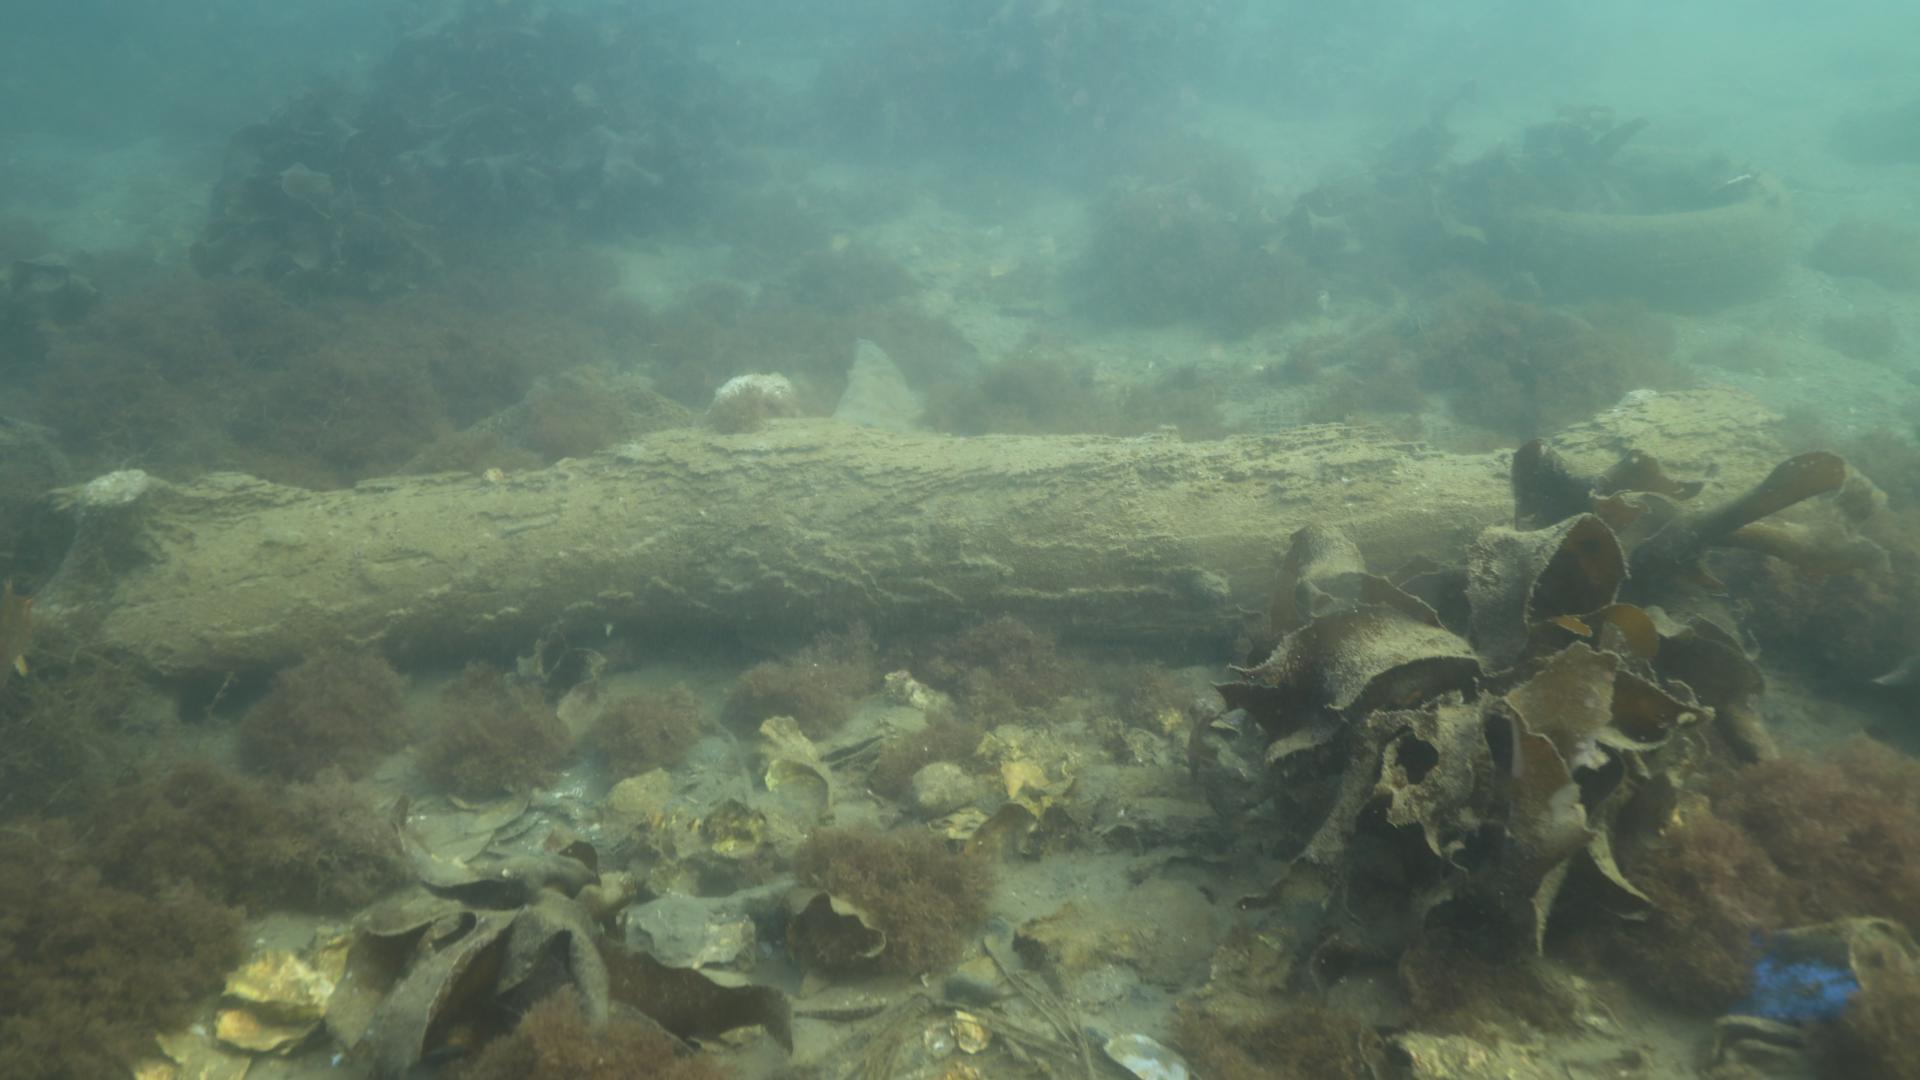fish net: (1240, 386, 1328, 433)
tire: (1493, 142, 1785, 302)
wood: (32, 384, 1888, 691)
